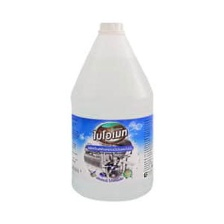cleaning_solution: (68, 18, 156, 203)
